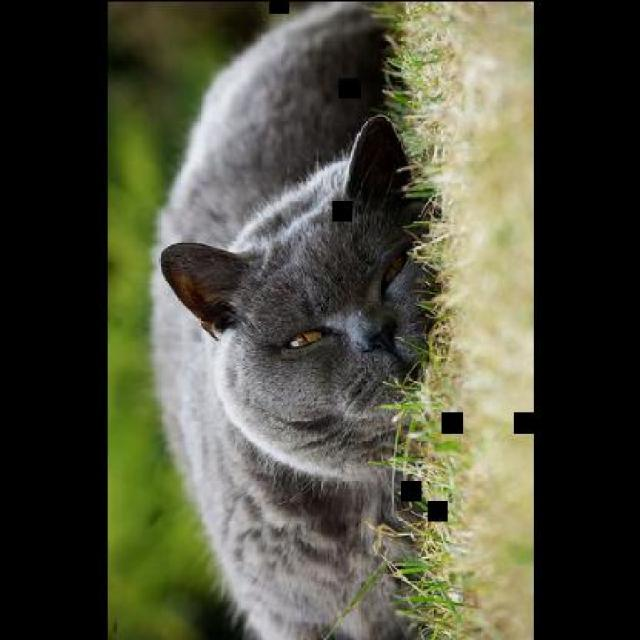unauthorized: (146, 0, 441, 638)
